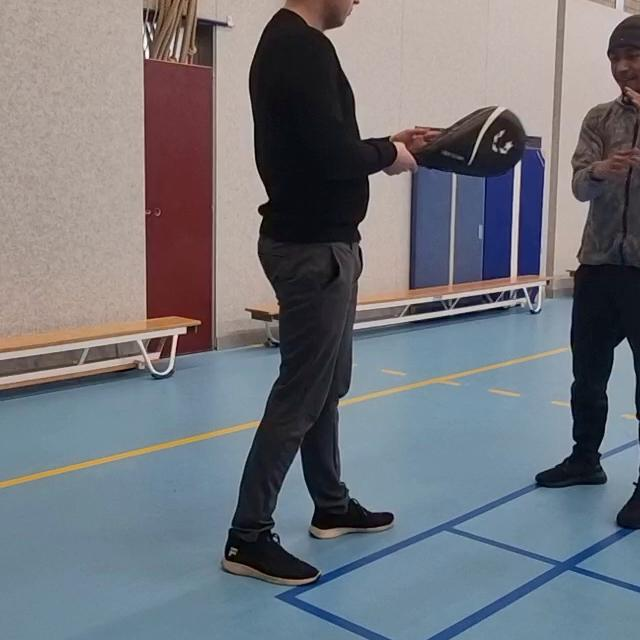paddle: (423, 106, 527, 180)
